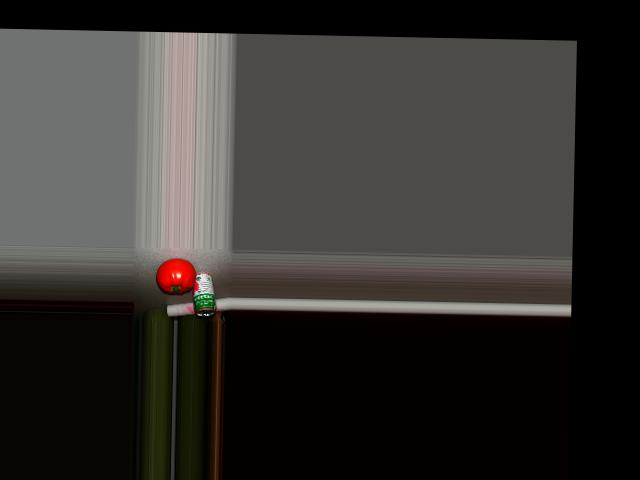tomato: (156, 258, 195, 292)
